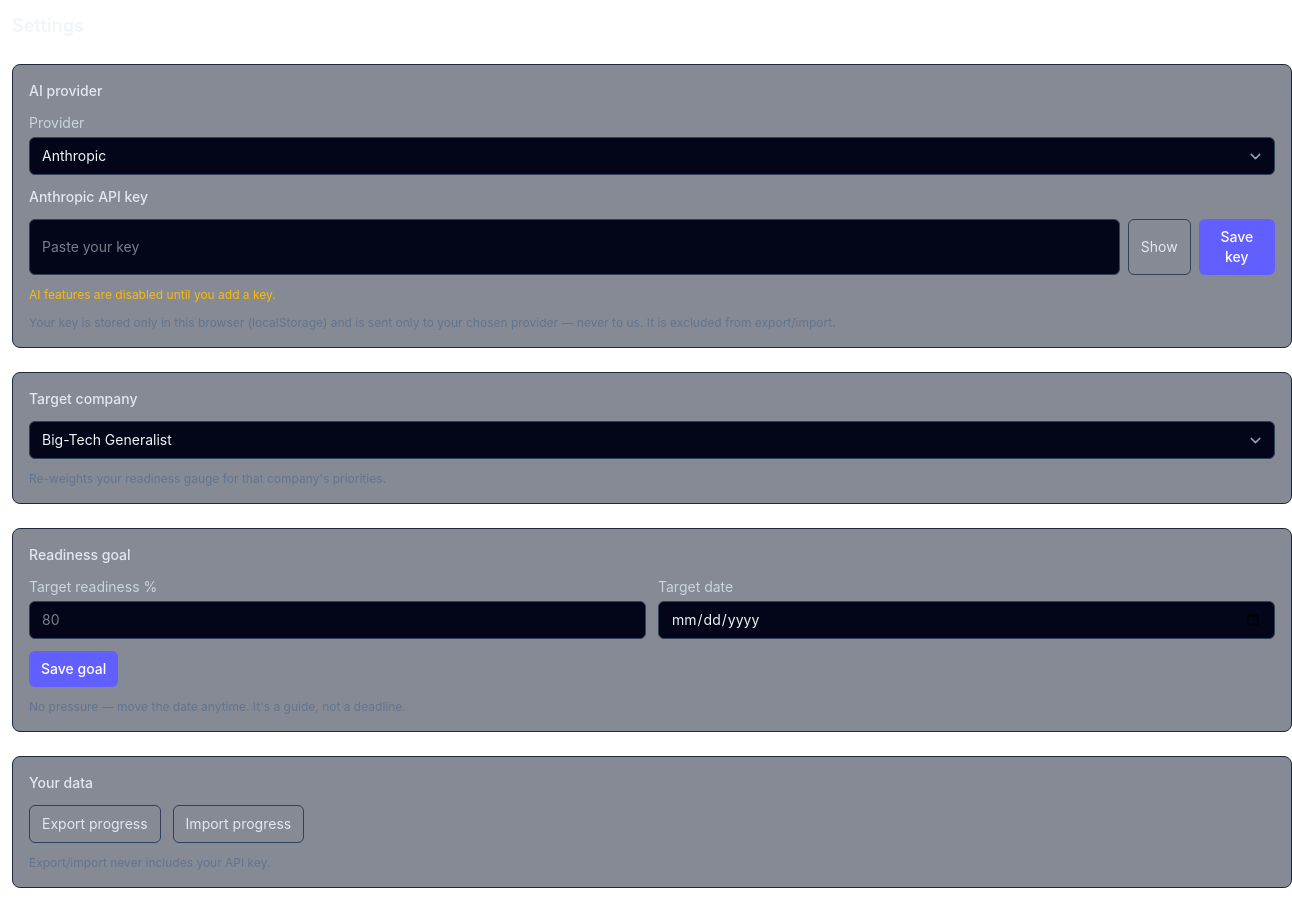
Test: Settings › saves an entered key and hides the disabled note
Type "sk-ant-secret123" into the password field labelled "Anthropic API key" at [574, 247], box [29, 219, 1120, 275]
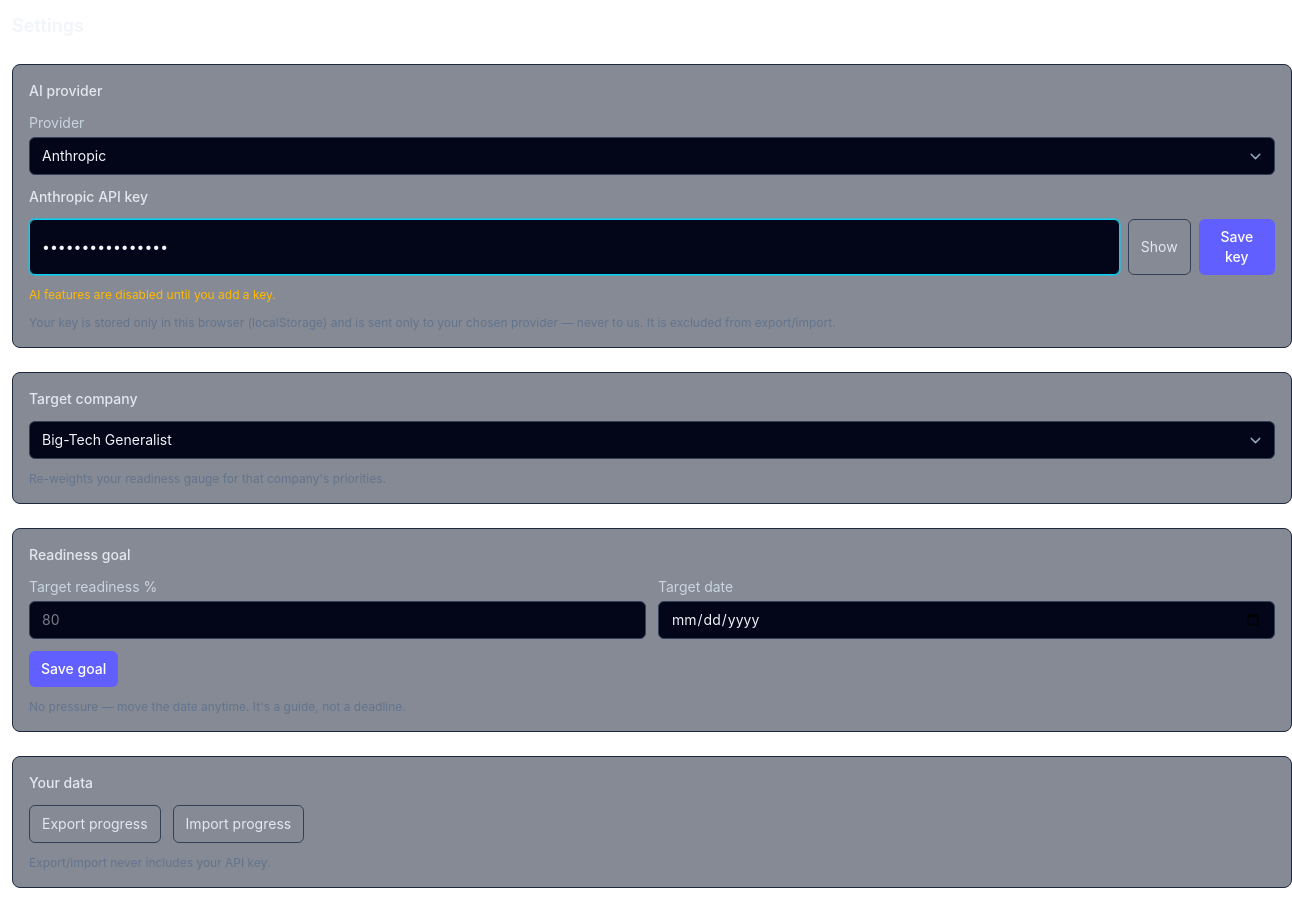
Click the button "Save key" at [1237, 247], box [1199, 219, 1275, 275]
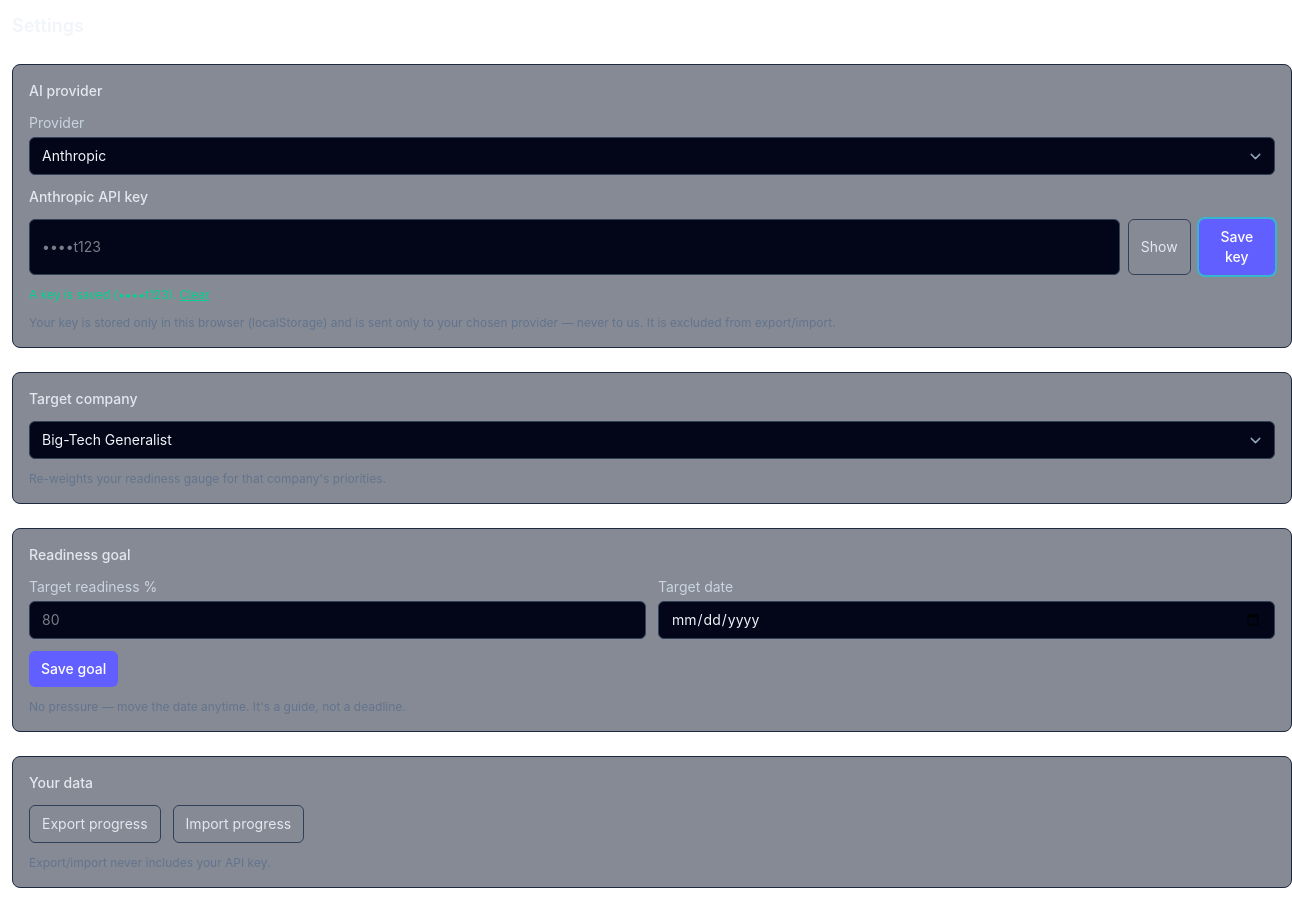
Expected: the text "AI features are disabled" is gone
